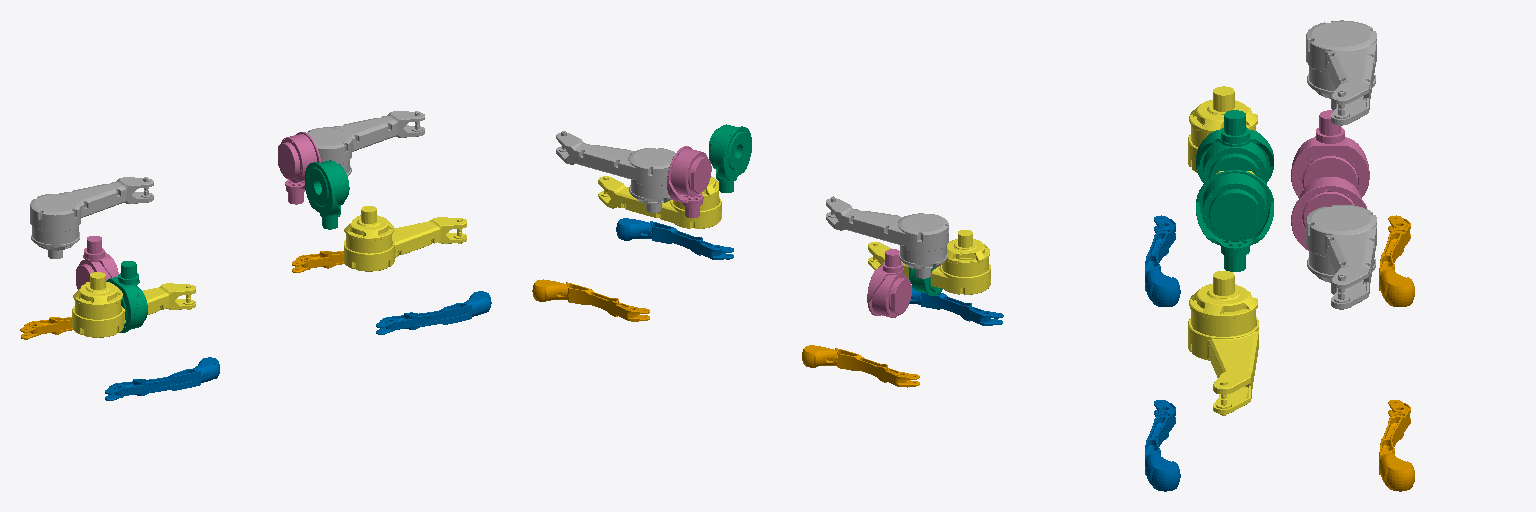
The robot description file, URDF, robot "comar":
<?xml version="1.0" ?>
<!-- =================================================================================== -->
<!-- |    This document was autogenerated by xacro from comar_base.xacro               | -->
<!-- |    EDITING THIS FILE BY HAND IS NOT RECOMMENDED                                 | -->
<!-- =================================================================================== -->
<!--
  COMAR ROBOT ASELSAN 

  COMMENTED PARTS ARE USED FOR GAZEBOSIM
-->
<robot name="comar">
  <!--[Ns/m] -->
  <!-- [kg] -->
  <!-- 
   <xacro:property name="Body_Length" value="0.487" /> 
   <xacro:property name="Body_Width" value="0.287" /> 
   <xacro:property name="Body_Heigth" value="0.214" />

   <xacro:property name="ABAD_LinkLength" value="0.08374" /> 
   <xacro:property name="Hip_LinkLength" value="0.2" /> 
   <xacro:property name="Knee_LinkLength" value="0.2" /> 
   <xacro:property name="ABAD_XOffset" value="0.056" /> 
   <xacro:property name="Knee_YOffset" value="0.0" /> 
 -->
  <!--[N] -->
  <link name="comar/base_link"> </link>
  <joint name="comar/base_joint" type="fixed">
    <origin rpy="0 0 0" xyz="0 0 0"/>
    <parent link="comar/base_link"/>
    <child link="comar/base_link_inertia"/>
  </joint>
  <link name="comar/base_link_inertia">
    <inertial>
      <mass value="18.596"/>
      <!-- [kg] -->
      <origin rpy="0 0 0" xyz="0 0 0"/>
      <inertia ixx="144005e-6" ixy="254013e-6" ixz="-1667.22e-6" iyy="380679e-6" iyz="1300.96e-6" izz="447682e-6"/>
    </inertial>
    <visual>
      <origin rpy="0 0 0" xyz="0 0 0"/>
      <geometry>
        <mesh filename="../meshes/ROBOT_GOVDE.stl"/>
      </geometry>
    </visual>
    <collision>
      <origin rpy="0 0 0" xyz="0 0 0"/>
      <geometry>
        <mesh filename="../meshes/ROBOT_GOVDE.stl"/>
      </geometry>
    </collision>
  </link>
  <!-- ================================================_LEG 1 - FR_======================================================== -->
  <joint name="comar/abad_1_joint" type="revolute">
    <limit effort="1000" lower="-3.1415" upper="3.1415" velocity="1000"/>
    <dynamics damping="0.03" friction="0.05"/>
    <origin rpy="0 0 0" xyz="222.50e-3 -65.50e-3 0"/>
    <axis xyz="1 0 0"/>
    <parent link="comar/base_link"/>
    <child link="comar/abad_1"/>
  </joint>
  <link name="comar/abad_1">
    <inertial>
      <origin xyz="-0.011366 -0.007729 0.0048783"/>
      <mass value="0.8602"/>
      <!-- [kg] -->
      <inertia ixx="590.764e-06" ixy="-4.1943e-06" ixz="-0.6819e-06" iyy="1220.42e-06" iyz="-1.6663e-06" izz="938.409e-06"/>
    </inertial>
    <visual>
      <origin rpy="0 0 0" xyz="0 0 0"/>
      <geometry>
        <mesh filename="../meshes/ROBOT_ABDUCTION_FR.stl"/>
      </geometry>
    </visual>
    <collision>
      <origin rpy="0 0 0" xyz="0 0 0"/>
      <geometry>
        <mesh filename="../meshes/ROBOT_ABDUCTION_FR.stl"/>
      </geometry>
    </collision>
  </link>
  <joint name="comar/hip_1_joint" type="revolute">
    <limit effort="1000" lower="-3.1415" upper="3.1415" velocity="1000"/>
    <dynamics damping="0.03" friction="0.05"/>
    <origin rpy="0 0 0" xyz="0.07675 -0.0155 0 "/>
    <axis xyz="0 1 0"/>
    <parent link="comar/abad_1"/>
    <child link="comar/hip_1"/>
  </joint>
  <link name="comar/hip_1">
    <inertial>
      <origin xyz="-0.00309 -0.05402 -0.02642"/>
      <mass value="1.3625"/>
      <inertia ixx="5973.76e-06" ixy="120.436e-06" ixz="399.581e-06" iyy="5820.53e-06" iyz="875.295e-06" izz="1518.4e-06"/>
    </inertial>
    <visual>
      <origin rpy="0 0 0" xyz="0 0 0"/>
      <geometry>
        <mesh filename="../meshes/ROBOT_HIP_R.stl"/>
      </geometry>
    </visual>
    <collision>
      <origin rpy="0 0 0" xyz="0 0 0"/>
      <geometry>
        <mesh filename="../meshes/ROBOT_HIP_R.stl"/>
      </geometry>
    </collision>
  </link>
  <joint name="comar/knee_1_joint" type="revolute">
    <limit effort="0" lower="-3.1415" upper="3.1415" velocity="1000"/>
    <dynamics damping="0.03" friction="0.05"/>
    <origin rpy="0 0 0" xyz="0 -0.08024 -0.2 "/>
    <axis xyz="0 1 0"/>
    <parent link="comar/hip_1"/>
    <child link="comar/knee_1"/>
  </joint>
  <link name="comar/knee_1">
    <inertial>
      <origin xyz="0.00708 0.0009 0.13802"/>
      <mass value="1e-12"/>
      <inertia ixx="1555.11e-06" ixy="0.0923e-06" ixz="-4.0365e-06" iyy="1573.95e-06" iyz="-9.4347e-06" izz="56.1384e-06"/>
    </inertial>
    <visual>
      <origin rpy="0 0 0" xyz="0 0 0"/>
      <geometry>
        <mesh filename="../meshes/ROBOT_KNEE.stl"/>
      </geometry>
    </visual>
    <collision>
      <origin rpy="0 0 0" xyz="0 0 0"/>
      <geometry>
        <mesh filename="../meshes/ROBOT_KNEE.stl"/>
      </geometry>
    </collision>
  </link>
  <joint name="comar/foot_1_joint" type="fixed">
    <origin rpy="0 0 0" xyz="0 0 -0.199696 "/>
    <parent link="comar/knee_1"/>
    <child link="comar/foot_1"/>
  </joint>
  <link name="comar/foot_1">
    <inertial>
      <origin xyz="0.0 0.0 0.0"/>
      <mass value="0.05"/>
      <inertia ixx="0.000005" ixy="0.000005" ixz="0.000005" iyy="0.000005" iyz="0.000005" izz="0.000005"/>
    </inertial>
    <visual>
      <origin rpy="0 0 0" xyz="0 0 0"/>
      <geometry>
        <mesh filename="../meshes/ROBOT_FOOT.stl"/>
      </geometry>
    </visual>
    <collision>
      <origin rpy="0 0 0" xyz="0 0 0"/>
      <geometry>
        <mesh filename="../meshes/ROBOT_FOOT.stl"/>
      </geometry>
    </collision>
  </link>
  <!-- ================================================_LEG 2 - FL_======================================================== -->
  <joint name="comar/abad_2_joint" type="revolute">
    <limit effort="1000" lower="-3.1415" upper="3.1415" velocity="1000"/>
    <dynamics damping="0.03" friction="0.05"/>
    <origin rpy="0 0 0" xyz="222.50e-3 65.50e-3 0"/>
    <axis xyz="1 0 0"/>
    <parent link="comar/base_link"/>
    <child link="comar/abad_2"/>
  </joint>
  <link name="comar/abad_2">
    <inertial>
      <origin xyz="-0.011366 0.007729 0.0048783"/>
      <mass value="0.8602"/>
      <!-- [kg] -->
      <inertia ixx="1220.42e-06" ixy="-4.428e-06" ixz="-0.8715e-06" iyy="693.402e-06" iyz="158.578e-06" izz="835.772e-06"/>
    </inertial>
    <visual>
      <origin rpy="0 0 0" xyz="0 0 0"/>
      <geometry>
        <mesh filename="../meshes/ROBOT_ABDUCTION_FL.stl"/>
      </geometry>
    </visual>
    <collision>
      <origin rpy="0 0 0" xyz="0 0 0"/>
      <geometry>
        <mesh filename="../meshes/ROBOT_ABDUCTION_FL.stl"/>
      </geometry>
    </collision>
  </link>
  <joint name="comar/hip_2_joint" type="revolute">
    <limit effort="1000" lower="-3.1415" upper="3.1415" velocity="1000"/>
    <dynamics damping="0.03" friction="0.05"/>
    <origin rpy="0 0 0" xyz="0.07675 0.0155 0 "/>
    <axis xyz="0 1 0"/>
    <parent link="comar/abad_2"/>
    <child link="comar/hip_2"/>
  </joint>
  <link name="comar/hip_2">
    <inertial>
      <origin xyz="-0.00309 0.05402 -0.02642"/>
      <mass value="1.3625"/>
      <inertia ixx="5973.75e-06" ixy="-120.436e-06" ixz="399.58e-06" iyy="5820.52e-06" iyz="-875.292e-06" izz="1518.4e-06"/>
    </inertial>
    <visual>
      <origin rpy="0 0 0" xyz="0 0 0"/>
      <geometry>
        <mesh filename="../meshes/ROBOT_HIP_L.stl"/>
      </geometry>
    </visual>
    <collision>
      <origin rpy="0 0 0" xyz="0 0 0"/>
      <geometry>
        <mesh filename="../meshes/ROBOT_HIP_L.stl"/>
      </geometry>
    </collision>
  </link>
  <joint name="comar/knee_2_joint" type="revolute">
    <limit effort="0" lower="-3.1415" upper="3.1415" velocity="1000"/>
    <dynamics damping="0.03" friction="0.05"/>
    <origin rpy="0 0 0" xyz="0 0.08024 -0.2 "/>
    <axis xyz="0 1 0"/>
    <parent link="comar/hip_2"/>
    <child link="comar/knee_2"/>
  </joint>
  <link name="comar/knee_2">
    <inertial>
      <origin xyz="0.00708 -0.0009 0.13802"/>
      <mass value="1e-12"/>
      <inertia ixx="1555.76e-06" ixy="0.115e-06" ixz="-4.2593e-06" iyy="1574.68e-06" iyz="-9.6089e-06" izz="56.2211e-06"/>
    </inertial>
    <visual>
      <origin rpy="0 0 0" xyz="0 0 0"/>
      <geometry>
        <mesh filename="../meshes/ROBOT_KNEE.stl"/>
      </geometry>
    </visual>
    <collision>
      <origin rpy="0 0 0" xyz="0 0 0"/>
      <geometry>
        <mesh filename="../meshes/ROBOT_KNEE.stl"/>
      </geometry>
    </collision>
  </link>
  <joint name="comar/foot_2_joint" type="fixed">
    <origin rpy="0 0 0" xyz="0 0 -0.199696 "/>
    <parent link="comar/knee_2"/>
    <child link="comar/foot_2"/>
  </joint>
  <link name="comar/foot_2">
    <inertial>
      <origin xyz="0.0 0.0 0.0"/>
      <mass value="0.05"/>
      <inertia ixx="0.000005" ixy="0.000005" ixz="0.000005" iyy="0.000005" iyz="0.000005" izz="0.000005"/>
    </inertial>
    <visual>
      <origin rpy="0 0 0" xyz="0 0 0"/>
      <geometry>
        <mesh filename="../meshes/ROBOT_FOOT.stl"/>
      </geometry>
    </visual>
    <collision>
      <origin rpy="0 0 0" xyz="0 0 0"/>
      <geometry>
        <mesh filename="../meshes/ROBOT_FOOT.stl"/>
      </geometry>
    </collision>
  </link>
  <!-- ================================================_LEG 3 - HR_======================================================== -->
  <joint name="comar/abad_3_joint" type="revolute">
    <limit effort="1000" lower="-3.1415" upper="3.1415" velocity="1000"/>
    <dynamics damping="0.03" friction="0.05"/>
    <origin rpy="0 0 0" xyz="-222.50e-3 -65.50e-3 0"/>
    <axis xyz="1 0 0"/>
    <parent link="comar/base_link"/>
    <child link="comar/abad_3"/>
  </joint>
  <link name="comar/abad_3">
    <inertial>
      <origin xyz="0.011366 -0.007729 0.0048783"/>
      <mass value="0.8602"/>
      <!-- [kg] -->
      <inertia ixx="590.764e-06" ixy="4.1943e-06" ixz="-0.6819e-06" iyy="1220.42e-06" iyz="1.6663e-06" izz="938.409e-06"/>
    </inertial>
    <visual>
      <origin rpy="0 0 0" xyz="0 0 0"/>
      <geometry>
        <mesh filename="../meshes/ROBOT_ABDUCTION_HR.stl"/>
      </geometry>
    </visual>
    <collision>
      <origin rpy="0 0 0" xyz="0 0 0"/>
      <geometry>
        <mesh filename="../meshes/ROBOT_ABDUCTION_HR.stl"/>
      </geometry>
    </collision>
  </link>
  <joint name="comar/hip_3_joint" type="revolute">
    <limit effort="1000" lower="-3.1415" upper="3.1415" velocity="1000"/>
    <dynamics damping="0.03" friction="0.05"/>
    <origin rpy="0 0 0" xyz="-0.07675 -0.0155 0 "/>
    <axis xyz="0 1 0"/>
    <parent link="comar/abad_3"/>
    <child link="comar/hip_3"/>
  </joint>
  <link name="comar/hip_3">
    <inertial>
      <origin xyz="-0.00309 -0.05402 -0.02642"/>
      <mass value="1.3625"/>
      <inertia ixx="5973.76e-06" ixy="120.436e-06" ixz="399.581e-06" iyy="5820.53e-06" iyz="875.295e-06" izz="1518.4e-06"/>
    </inertial>
    <visual>
      <origin rpy="0 0 0" xyz="0 0 0"/>
      <geometry>
        <mesh filename="../meshes/ROBOT_HIP_R.stl"/>
      </geometry>
    </visual>
    <collision>
      <origin rpy="0 0 0" xyz="0 0 0"/>
      <geometry>
        <mesh filename="../meshes/ROBOT_HIP_R.stl"/>
      </geometry>
    </collision>
  </link>
  <joint name="comar/knee_3_joint" type="revolute">
    <limit effort="0" lower="-3.1415" upper="3.1415" velocity="1000"/>
    <dynamics damping="0.03" friction="0.05"/>
    <origin rpy="0 0 0" xyz="0 -0.08024 -0.2 "/>
    <axis xyz="0 1 0"/>
    <parent link="comar/hip_3"/>
    <child link="comar/knee_3"/>
  </joint>
  <link name="comar/knee_3">
    <inertial>
      <origin xyz="0.00708 -0.0009 0.13802"/>
      <mass value="1e-12"/>
      <inertia ixx="1555.11e-06" ixy="0.0923e-06" ixz="-4.0365e-06" iyy="1573.95e-06" iyz="-9.4347e-06" izz="56.1384e-06"/>
    </inertial>
    <visual>
      <origin rpy="0 0 0" xyz="0 0 0"/>
      <geometry>
        <mesh filename="../meshes/ROBOT_KNEE.stl"/>
      </geometry>
    </visual>
    <collision>
      <origin rpy="0 0 0" xyz="0 0 0"/>
      <geometry>
        <mesh filename="../meshes/ROBOT_KNEE.stl"/>
      </geometry>
    </collision>
  </link>
  <joint name="comar/foot_3_joint" type="fixed">
    <origin rpy="0 0 0" xyz="0 0 -0.199696 "/>
    <parent link="comar/knee_3"/>
    <child link="comar/foot_3"/>
  </joint>
  <link name="comar/foot_3">
    <inertial>
      <origin xyz="0.0 0.0 0.0"/>
      <mass value="0.05"/>
      <inertia ixx="0.000005" ixy="0.000005" ixz="0.000005" iyy="0.000005" iyz="0.000005" izz="0.000005"/>
    </inertial>
    <visual>
      <origin rpy="0 0 0" xyz="0 0 0"/>
      <geometry>
        <mesh filename="../meshes/ROBOT_FOOT.stl"/>
      </geometry>
    </visual>
    <collision>
      <origin rpy="0 0 0" xyz="0 0 0"/>
      <geometry>
        <mesh filename="../meshes/ROBOT_FOOT.stl"/>
      </geometry>
    </collision>
  </link>
  <!-- ================================================_LEG 4 - HL_======================================================== -->
  <joint name="comar/abad_4_joint" type="revolute">
    <limit effort="1000" lower="-3.1415" upper="3.1415" velocity="1000"/>
    <dynamics damping="0.03" friction="0.05"/>
    <origin rpy="0 0 0" xyz="-222.50e-3 65.50e-3 0"/>
    <axis xyz="1 0 0"/>
    <parent link="comar/base_link"/>
    <child link="comar/abad_4"/>
  </joint>
  <link name="comar/abad_4">
    <inertial>
      <origin xyz="0.011366 0.007729 0.0048783"/>
      <mass value="0.8602"/>
      <!-- [kg] -->
      <inertia ixx="590.766e-06" ixy="-4.1941e-06" ixz="-0.6823e-06" iyy="1220.42e-06" iyz="-1.6661e-06" izz="938.409e-06"/>
    </inertial>
    <visual>
      <origin rpy="0 0 0" xyz="0 0 0"/>
      <geometry>
        <mesh filename="../meshes/ROBOT_ABDUCTION_HL.stl"/>
      </geometry>
    </visual>
    <collision>
      <origin rpy="0 0 0" xyz="0 0 0"/>
      <geometry>
        <mesh filename="../meshes/ROBOT_ABDUCTION_HL.stl"/>
      </geometry>
    </collision>
  </link>
  <joint name="comar/hip_4_joint" type="revolute">
    <limit effort="1000" lower="-3.1415" upper="3.1415" velocity="1000"/>
    <dynamics damping="0.03" friction="0.05"/>
    <origin rpy="0 0 0" xyz="-0.07675 0.0155 0 "/>
    <axis xyz="0 1 0"/>
    <parent link="comar/abad_4"/>
    <child link="comar/hip_4"/>
  </joint>
  <link name="comar/hip_4">
    <inertial>
      <origin xyz="-0.00309 0.05402 -0.02642"/>
      <mass value="1.3625"/>
      <inertia ixx="5973.75e-06" ixy="-120.436e-06" ixz="399.58e-06" iyy="5820.52e-06" iyz="-875.292e-06" izz="1518.4e-06"/>
    </inertial>
    <visual>
      <origin rpy="0 0 0" xyz="0 0 0"/>
      <geometry>
        <mesh filename="../meshes/ROBOT_HIP_L.stl"/>
      </geometry>
    </visual>
    <collision>
      <origin rpy="0 0 0" xyz="0 0 0"/>
      <geometry>
        <mesh filename="../meshes/ROBOT_HIP_L.stl"/>
      </geometry>
    </collision>
  </link>
  <joint name="comar/knee_4_joint" type="revolute">
    <limit effort="0" lower="-3.1415" upper="3.1415" velocity="1000"/>
    <dynamics damping="0.03" friction="0.05"/>
    <origin rpy="0 0 0" xyz="0 0.08024 -0.2 "/>
    <axis xyz="0 1 0"/>
    <parent link="comar/hip_4"/>
    <child link="comar/knee_4"/>
  </joint>
  <link name="comar/knee_4">
    <inertial>
      <origin xyz="0.00708 0.0009 0.13802"/>
      <mass value="1e-12"/>
      <inertia ixx="1555.76e-06" ixy="0.115e-06" ixz="4.2593e-06" iyy="1574.68e-06" iyz="9.6089e-06" izz="56.2211e-06"/>
    </inertial>
    <visual>
      <origin rpy="0 0 0" xyz="0 0 0"/>
      <geometry>
        <mesh filename="../meshes/ROBOT_KNEE.stl"/>
      </geometry>
    </visual>
    <collision>
      <origin rpy="0 0 0" xyz="0 0 0"/>
      <geometry>
        <mesh filename="../meshes/ROBOT_KNEE.stl"/>
      </geometry>
    </collision>
  </link>
  <joint name="comar/foot_4_joint" type="fixed">
    <origin rpy="0 0 0" xyz="0 0 -0.199696 "/>
    <parent link="comar/knee_4"/>
    <child link="comar/foot_4"/>
  </joint>
  <link name="comar/foot_4">
    <inertial>
      <origin xyz="0.0 0.0 0.0"/>
      <mass value="0.05"/>
      <inertia ixx="0.000005" ixy="0.000005" ixz="0.000005" iyy="0.000005" iyz="0.000005" izz="0.000005"/>
    </inertial>
    <visual>
      <origin rpy="0 0 0" xyz="0 0 0"/>
      <geometry>
        <mesh filename="../meshes/ROBOT_FOOT.stl"/>
      </geometry>
    </visual>
    <collision>
      <origin rpy="0 0 0" xyz="0 0 0"/>
      <geometry>
        <mesh filename="../meshes/ROBOT_FOOT.stl"/>
      </geometry>
    </collision>
  </link>
  <!-- Instantiate a controller. -->
  <!-- <xacro:controller_plugin_macro namespace="${namespace}" imu_sub_topic="imu" /> -->
  <!-- <xacro:if value="$(arg enable_mavlink_interface)">

    <xacro:default_mavlink_interface namespace="${namespace}" imu_sub_topic="imu" rotor_count="4" />
  </xacro:if> -->
  <!-- Mount an ADIS16448 IMU. -->
  <!-- <xacro:default_imu namespace="${namespace}" parent_link="${namespace}/base_link" /> -->
  <!-- Mount a GPS. -->
  <!-- <xacro:default_gps namespace="${namespace}" parent_link="${namespace}/base_link" /> -->
  <!-- <xacro:if value="$(arg enable_ground_truth)">
    <xacro:ground_truth_imu_and_odometry namespace="${namespace}" parent_link="${namespace}/base_link" />
  </xacro:if> -->
  <!-- 
  <xacro:if value="$(arg enable_logging)">
    <xacro:bag_plugin_macro
      namespace="${namespace}"
      bag_file="$(arg log_file)"
      rotor_velocity_slowdown_sim="${rotor_velocity_slowdown_sim}"
      wait_to_record_bag="$(arg wait_to_record_bag)" />
  </xacro:if> -->
</robot>

--- What the picture shows (computed from the rendered views, not written in the file) ---
Views: 3 orthographic renders of the robot side by side, from view 1: azimuth 30°, elevation 25°; view 2: azimuth 150°, elevation 25°; view 3: azimuth 270°, elevation 25°.
Robot: comar — 18 links, 17 joints (12 revolute, 5 fixed); root link comar/base_link; default pose: every joint at zero.
Visible links, largest first — view 1: comar/hip_4, comar/hip_1, comar/hip_3, comar/hip_2, comar/abad_1, comar/knee_1, comar/knee_3, comar/abad_2, comar/abad_3, comar/abad_4, comar/knee_2, comar/knee_4; view 2: comar/hip_4, comar/hip_2, comar/hip_3, comar/hip_1, comar/abad_2, comar/abad_4, comar/abad_1, comar/knee_1, comar/knee_4, comar/knee_2, comar/knee_3; view 3: comar/hip_1, comar/hip_4, comar/hip_2, comar/abad_1, comar/abad_4, comar/abad_3, comar/abad_2, comar/hip_3, comar/knee_4, comar/knee_2, comar/knee_1, comar/knee_3.
Link boxes in pixels (bbox=[...]): comar/hip_4: bbox=[30, 177, 153, 258]; comar/hip_1: bbox=[344, 206, 466, 271]; comar/hip_3: bbox=[72, 272, 195, 337]; comar/hip_2: bbox=[307, 111, 424, 175]; comar/abad_1: bbox=[305, 160, 349, 229]; comar/knee_1: bbox=[376, 291, 491, 334]; comar/knee_3: bbox=[105, 357, 219, 400]; comar/abad_2: bbox=[278, 132, 320, 204]; comar/abad_3: bbox=[106, 261, 147, 332]; comar/abad_4: bbox=[76, 236, 118, 289]; comar/knee_2: bbox=[292, 251, 344, 272]; comar/knee_4: bbox=[20, 317, 72, 339]; comar/hip_4: bbox=[826, 196, 948, 278]; comar/hip_2: bbox=[556, 131, 675, 212]; comar/hip_3: bbox=[868, 230, 990, 294]; comar/hip_1: bbox=[598, 176, 721, 228]; comar/abad_2: bbox=[667, 146, 711, 217]; comar/abad_4: bbox=[867, 249, 911, 317]; comar/abad_1: bbox=[709, 124, 751, 192]; comar/knee_1: bbox=[616, 218, 733, 259]; comar/knee_4: bbox=[802, 345, 919, 387]; comar/knee_2: bbox=[532, 279, 649, 321]; comar/knee_3: bbox=[909, 287, 1003, 325]; comar/hip_1: bbox=[1188, 271, 1258, 415]; comar/hip_4: bbox=[1306, 20, 1376, 125]; comar/hip_2: bbox=[1306, 205, 1376, 309]; comar/abad_1: bbox=[1196, 170, 1273, 271]; comar/abad_4: bbox=[1291, 110, 1369, 197]; comar/abad_3: bbox=[1196, 110, 1273, 183]; comar/abad_2: bbox=[1291, 177, 1366, 250]; comar/hip_3: bbox=[1188, 86, 1257, 174]; comar/knee_4: bbox=[1379, 215, 1414, 306]; comar/knee_2: bbox=[1379, 400, 1414, 491]; comar/knee_1: bbox=[1145, 400, 1180, 491]; comar/knee_3: bbox=[1145, 215, 1180, 306].
Bounding box of the posed robot: 0.868 × 0.3718 × 0.3393 m (x, y, z).
12 mesh visuals loaded from 9 distinct referenced files (7 binary STL); not drawn: 5 (reference not matched to a file when rendering).